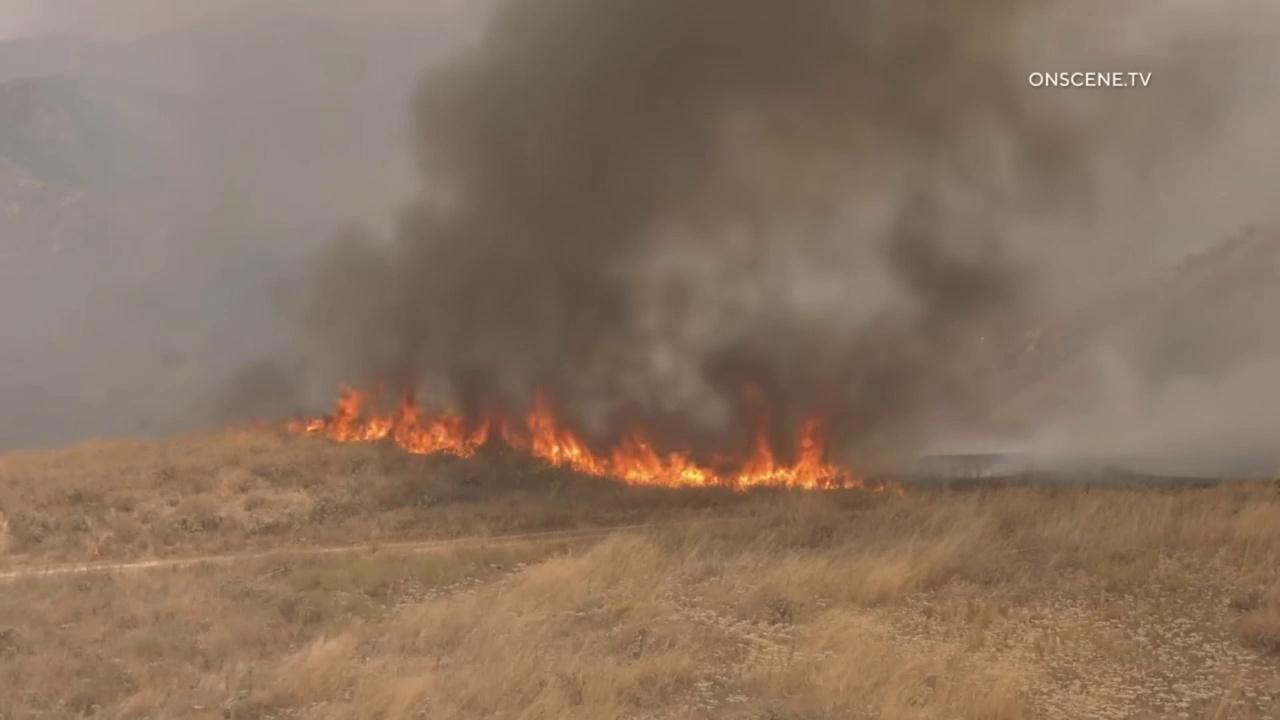fire: (285, 382, 866, 489), (873, 480, 884, 492)
smoke: (0, 0, 1280, 480)
